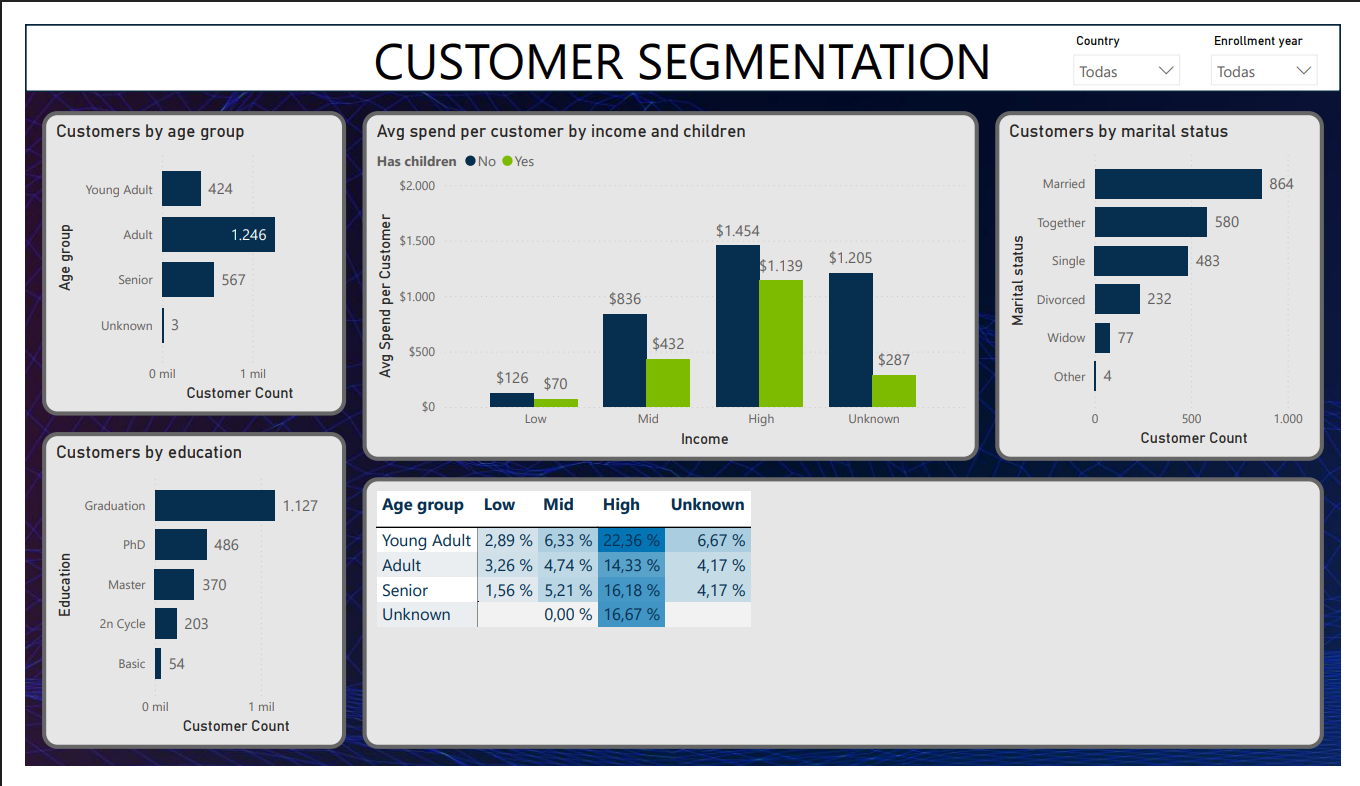

The dashboard page shown, as its layout file describes it:
{"tool":"powerbi","page":{"name":"2. Customer Segmentation","canvas":[1280,720],"ordinal":1},"visuals":[{"type":"clusteredBarChart","title":"Customers by age group","fields":{"Category":["Dim_Customer.Age_Bucket"],"Y":["_Measures.Customer Count"]},"box":[16,84,296,296],"z":100},{"type":"clusteredBarChart","title":"Customers by education","fields":{"Category":["Dim_Customer.Education"],"Y":["_Measures.Customer Count"]},"box":[16,396,296,308],"z":200},{"type":"clusteredColumnChart","title":"Avg spend per customer by income and children","fields":{"Category":["Dim_Customer.Income_Bucket"],"Y":["_Measures.Avg Spend per Customer"],"Series":["Dim_Customer.Has_Children"]},"box":[328,84,600,340],"z":300},{"type":"clusteredBarChart","title":"Customers by marital status","fields":{"Category":["Dim_Customer.Marital_Status"],"Y":["_Measures.Customer Count"]},"box":[944,84,320,340],"z":400},{"type":"pivotTable","title":"Response rate by age group and income","fields":{"Rows":["Dim_Customer.Age_Bucket"],"Values":["_Measures.Response Rate"],"Columns":["Dim_Customer.Income_Bucket"]},"box":[328,440,936,264],"z":500},{"type":"shape","title":"CUSTOMER SEGMENTATION","box":[0,0,1280,65],"z":10000},{"type":"slicer","fields":{"Values":["Dim_Customer.Country"]},"box":[1010,4,124,58],"z":11000},{"type":"slicer","fields":{"Values":["Dim_Date.Year"]},"box":[1144,4,124,58],"z":12000}]}

Visuals, with their boxes in screenshot pixels (x1, y1, x2, y2), scaled from the page's 1280x720 canvas onto the 1360x786 screenshot:
"Customers by age group" clusteredBarChart: Rect(17, 92, 332, 415)
"Customers by education" clusteredBarChart: Rect(17, 432, 332, 769)
"Avg spend per customer by income and children" clusteredColumnChart: Rect(348, 92, 986, 463)
"Customers by marital status" clusteredBarChart: Rect(1003, 92, 1343, 463)
"Response rate by age group and income" pivotTable: Rect(348, 480, 1343, 769)
"CUSTOMER SEGMENTATION" shape: Rect(0, 0, 1359, 71)
slicer - Dim_Customer.Country: Rect(1073, 4, 1205, 68)
slicer - Dim_Date.Year: Rect(1216, 4, 1347, 68)
